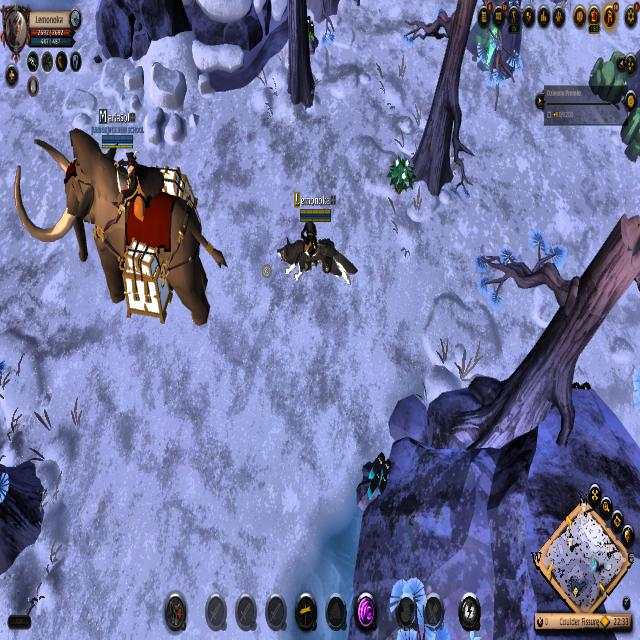fiber tier 3: (388, 152, 415, 201)
ore tier 4: (358, 452, 391, 507)
